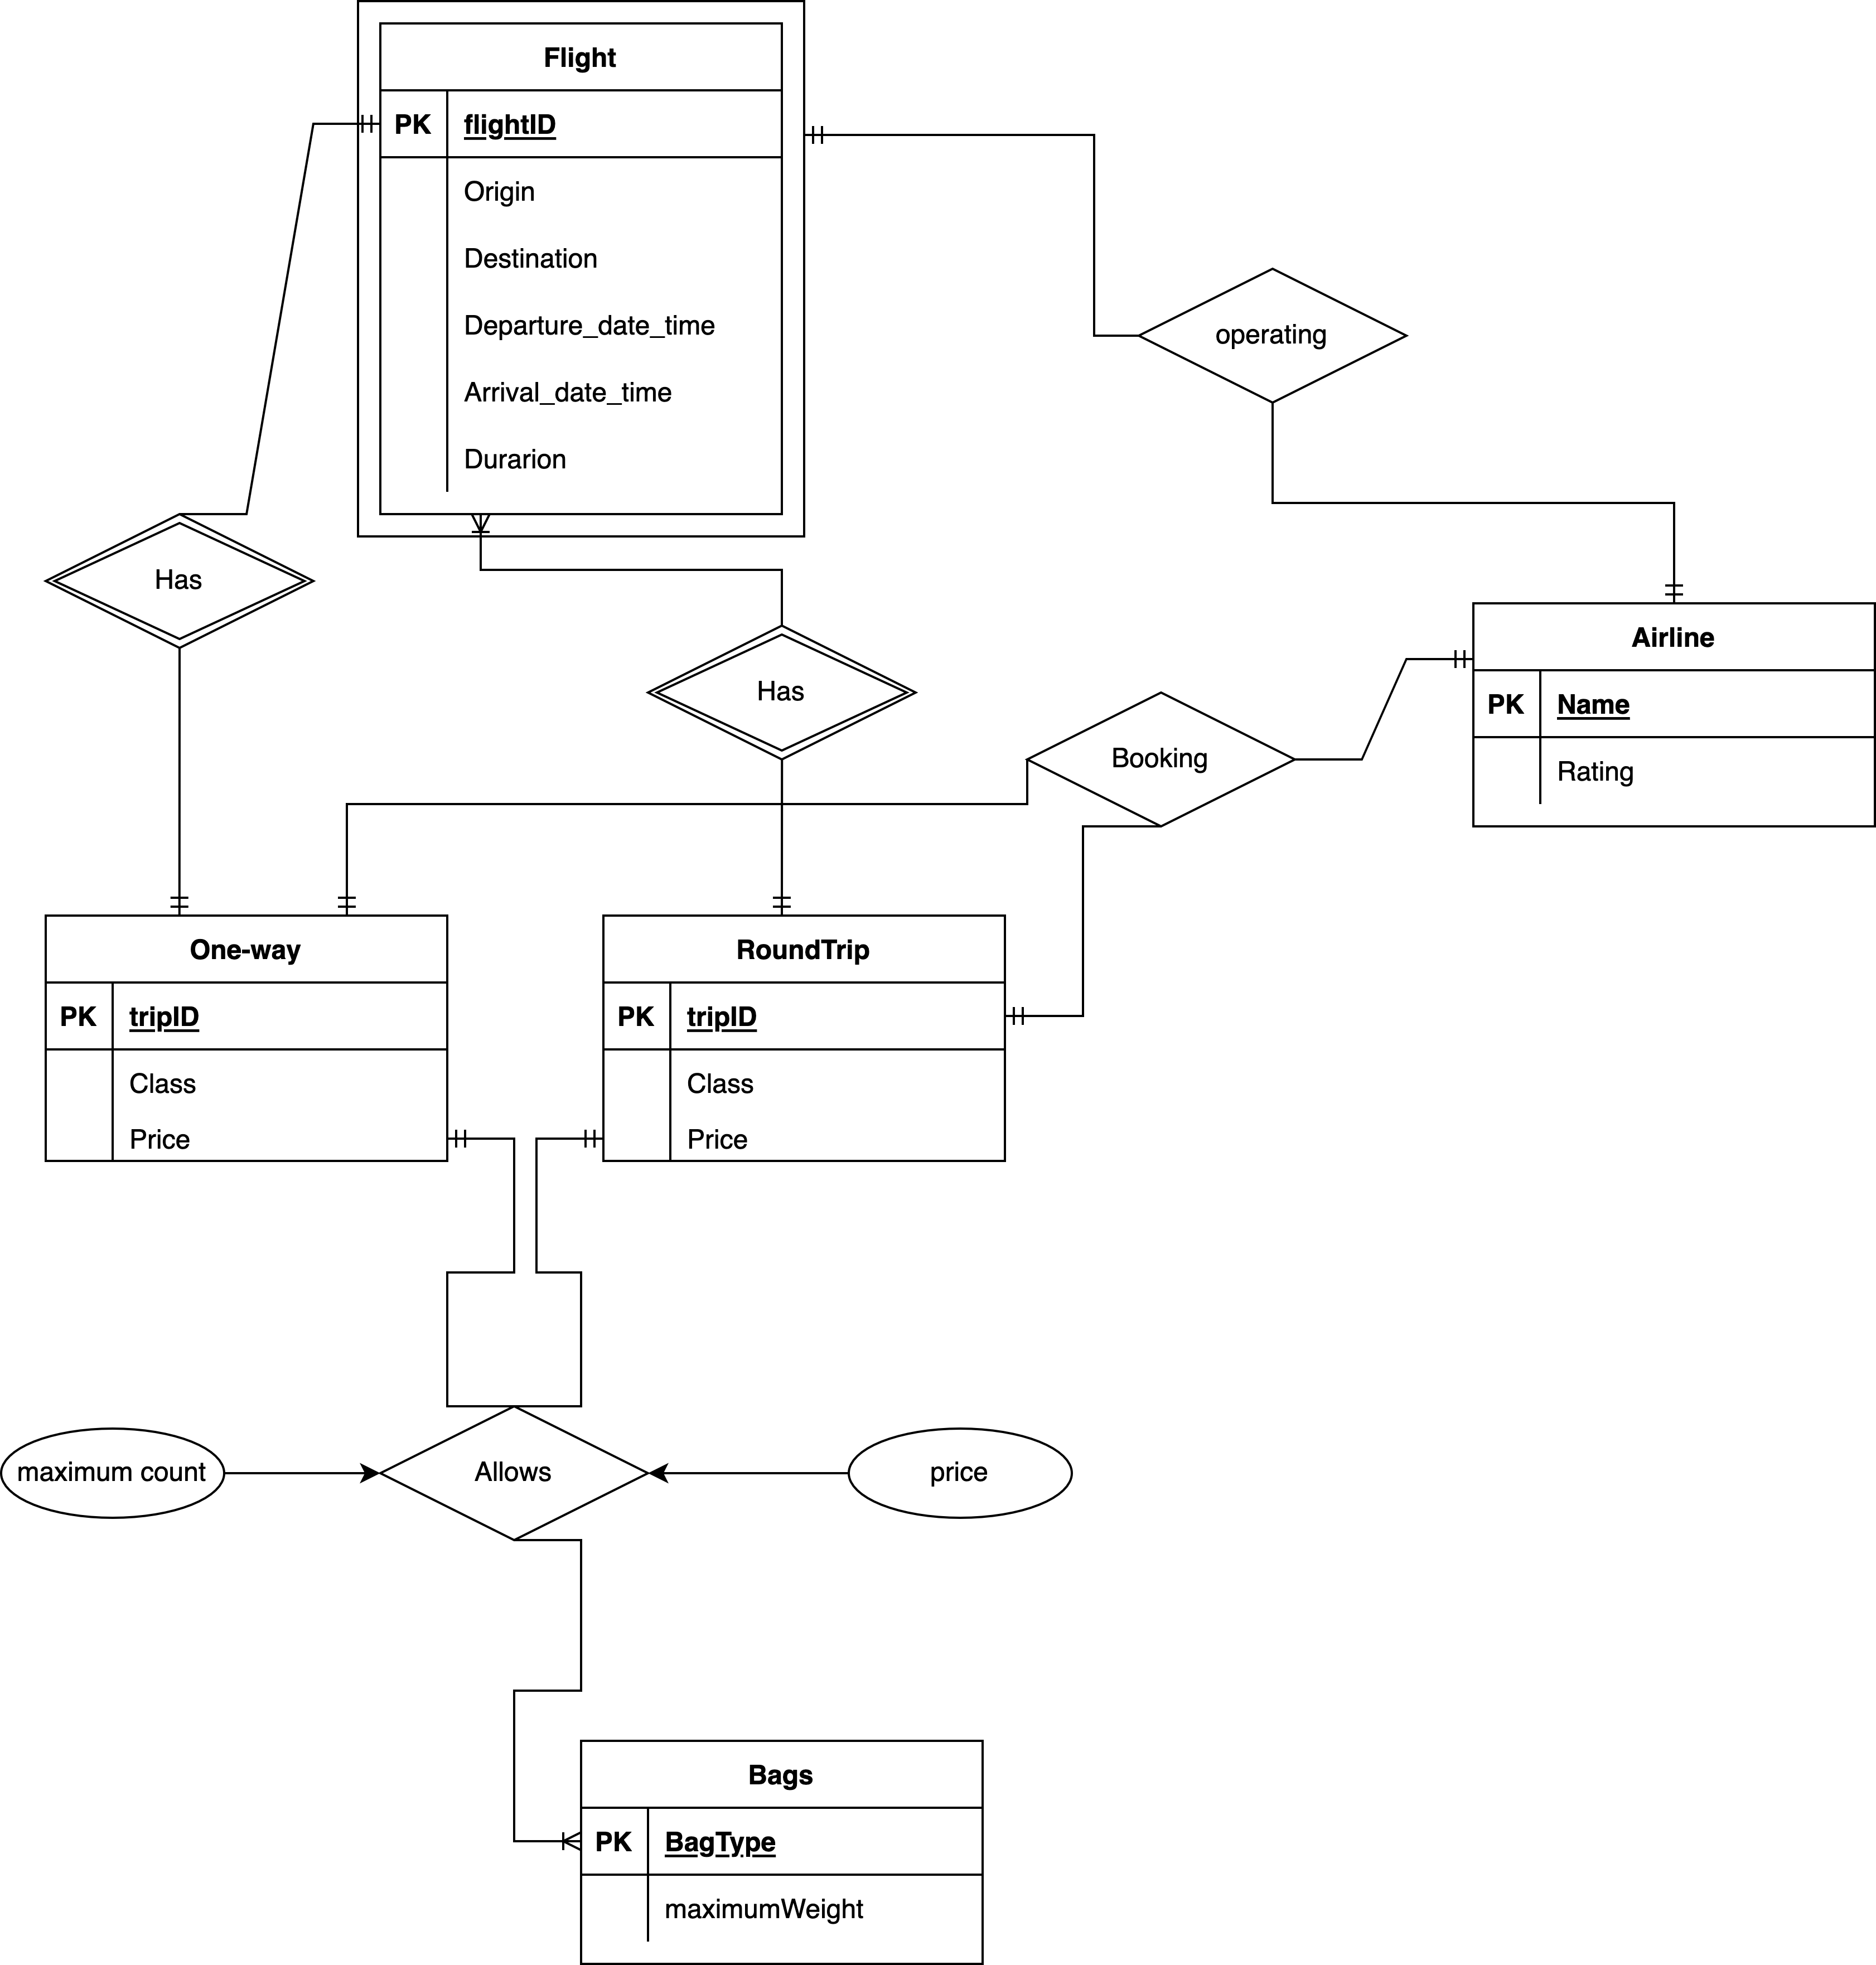entity: (602, 918, 1004, 1158), (46, 916, 446, 1156), (1472, 597, 1876, 823), (579, 1744, 983, 1965)
ident_rel: (42, 511, 318, 647), (651, 623, 921, 761)
many: (528, 1805, 581, 1870), (456, 509, 514, 546)
one: (551, 1114, 604, 1168), (137, 879, 214, 916), (446, 1114, 500, 1165), (760, 868, 807, 914), (314, 881, 376, 916), (1007, 993, 1053, 1039), (1434, 639, 1476, 686), (806, 112, 846, 158), (340, 104, 383, 142), (1655, 570, 1701, 605)
rel: (1021, 691, 1297, 832), (383, 1411, 651, 1546), (1142, 268, 1413, 400)
rel_attr: (0, 1425, 226, 1523), (844, 1423, 1069, 1516)
weak_entity: (354, 0, 804, 537)
